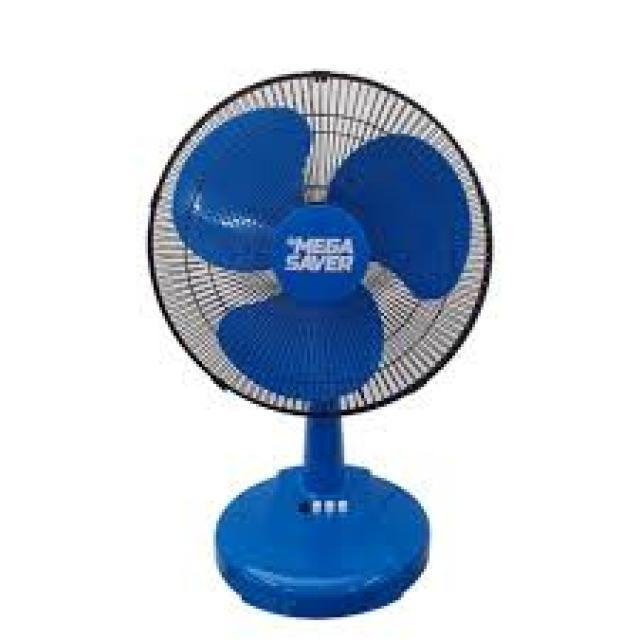fan: (100, 43, 528, 624)
